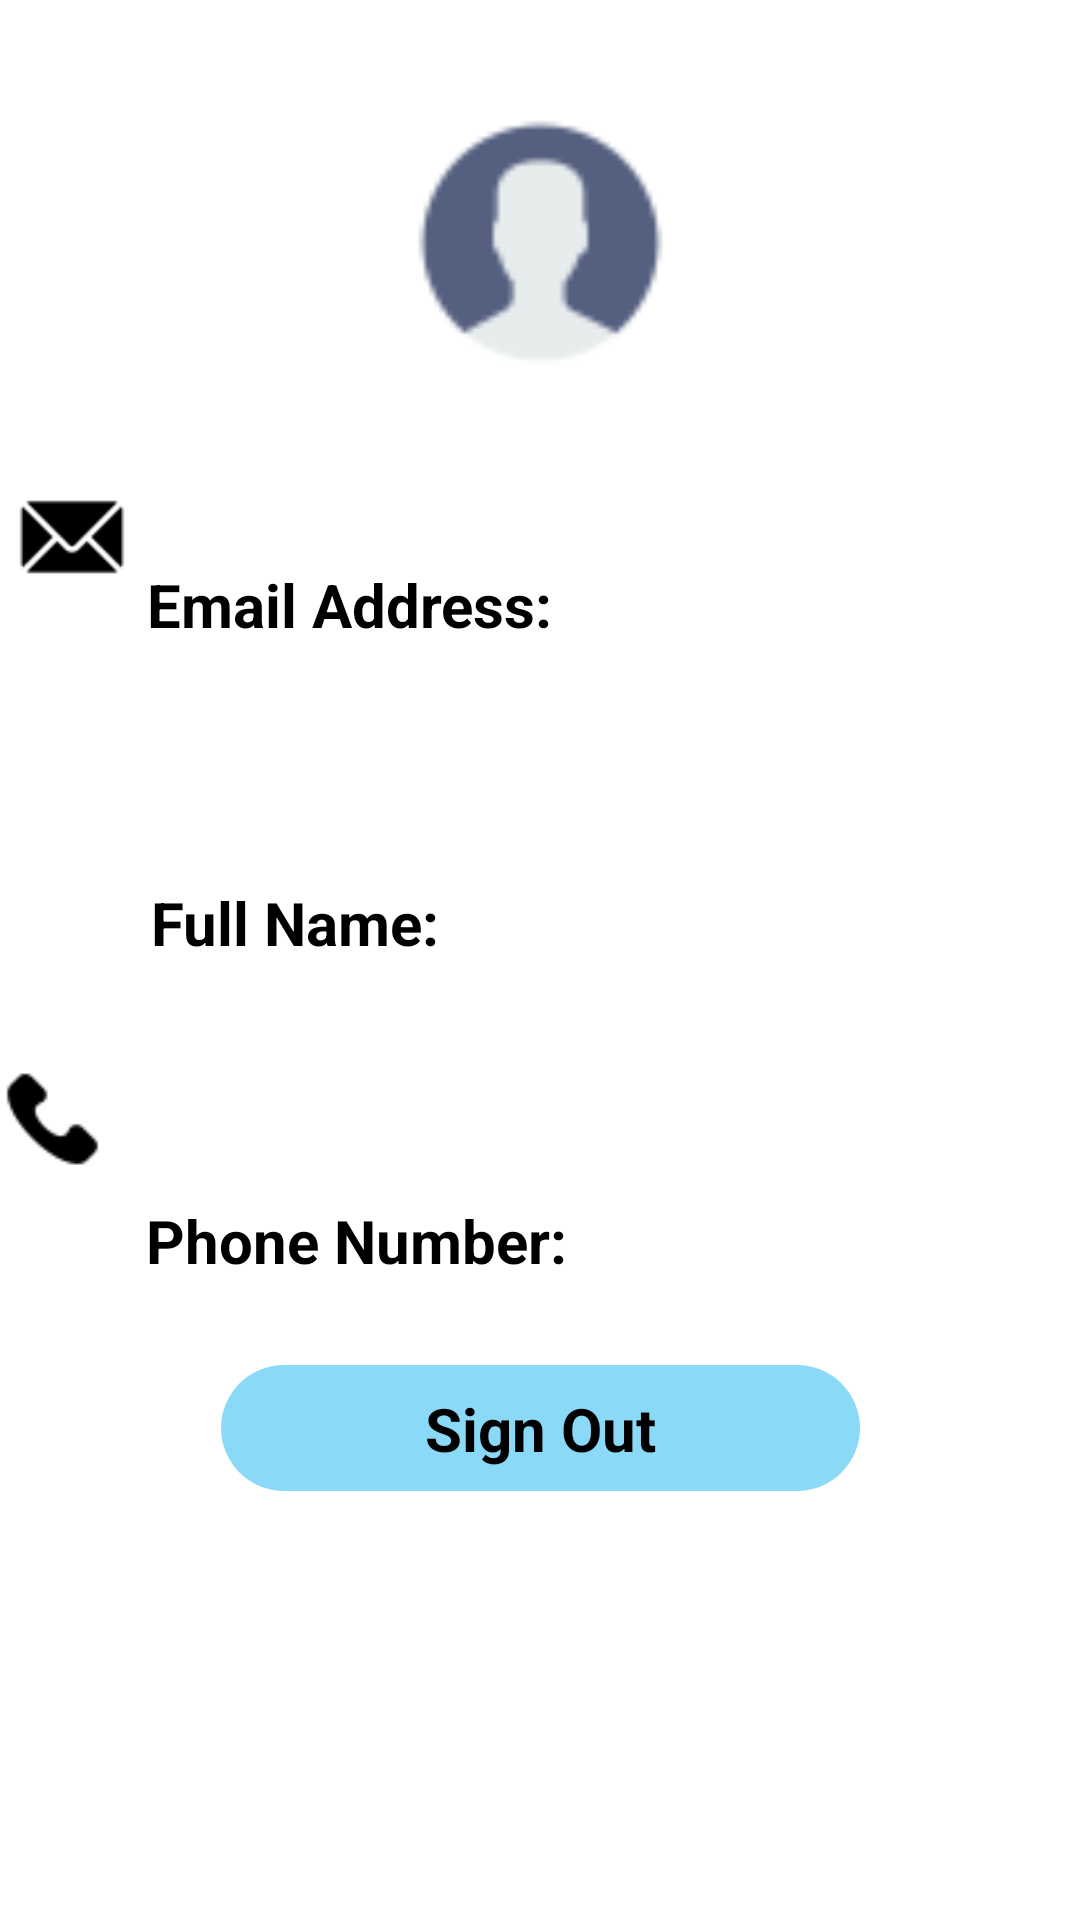

Screen size 1080 x 1920. Icon name, then its center in pixels as [x,y]:
profile activtiy: [540,237]
profile email: [72,537]
